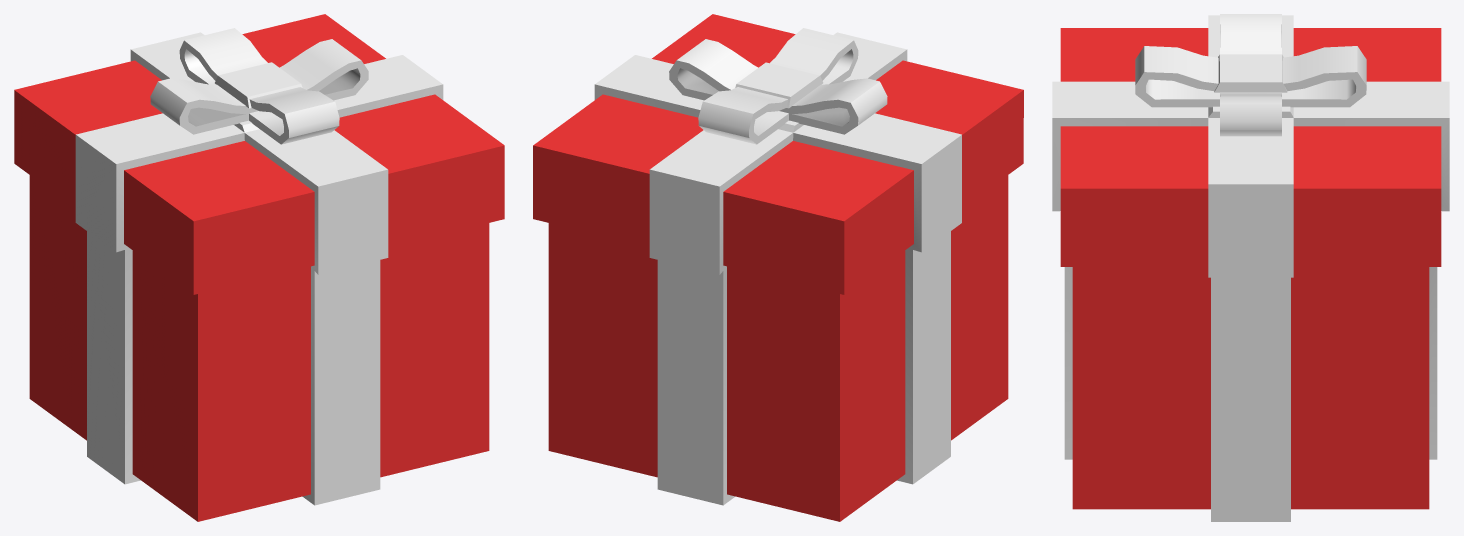
File: Giftbox1-4.fbx
The picture shows the model from 3 angles, left to right: view 1: azimuth 30°, elevation 25°; view 2: azimuth 150°, elevation 25°; view 3: azimuth 270°, elevation 25°; orthographic projection. The views are drawn at different scales.
Visible parts, largest first — view 1: Box022; view 2: Box022; view 3: Box022.
Boxes of the visible parts, x1,y1,x2,y2 form: Box022: [14, 14, 504, 521]; Box022: [533, 14, 1023, 521]; Box022: [1052, 14, 1449, 521].
Bounding box in the file's own units: 21.21 × 22.46 × 21.06.
